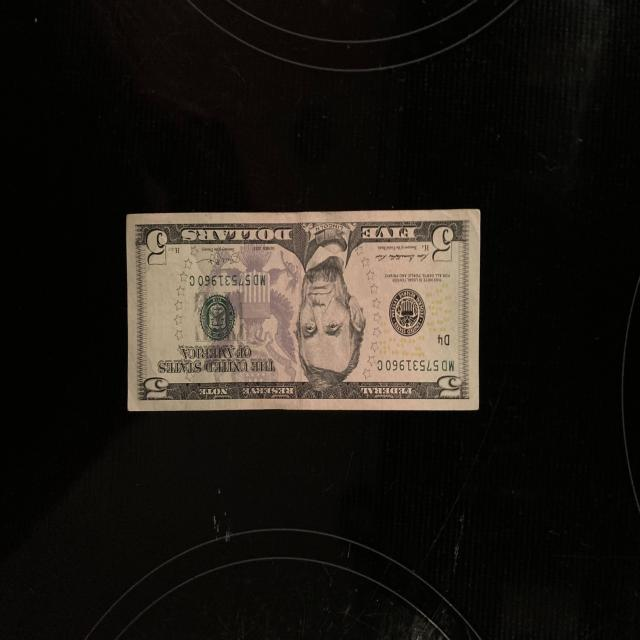five: (125, 208, 481, 413)
